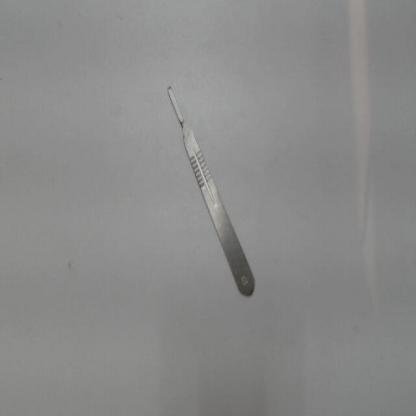No.4 BP Handle: (154, 66, 270, 310)
